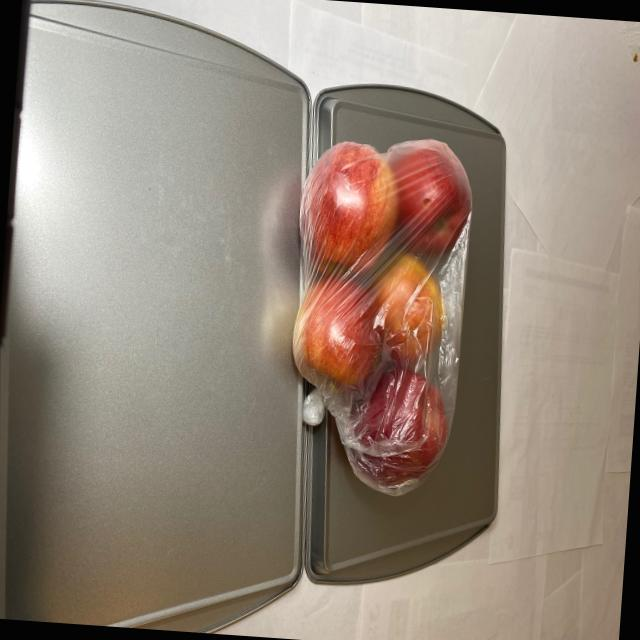apple: (284, 130, 478, 502)
